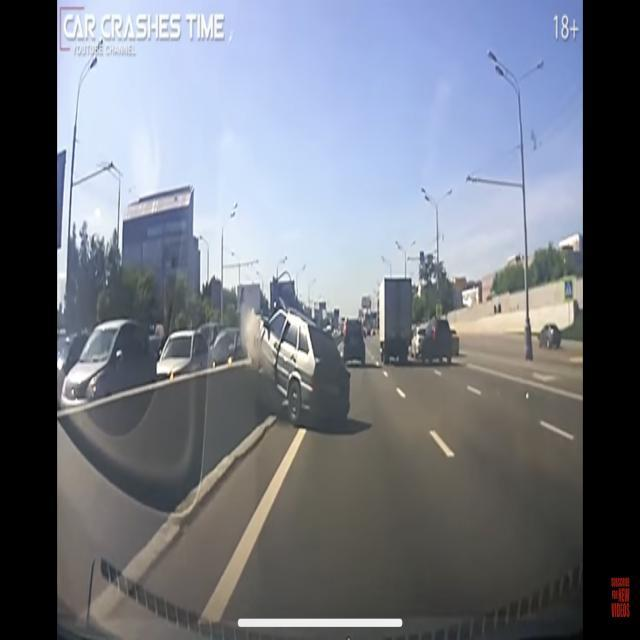accident: (208, 278, 355, 480)
